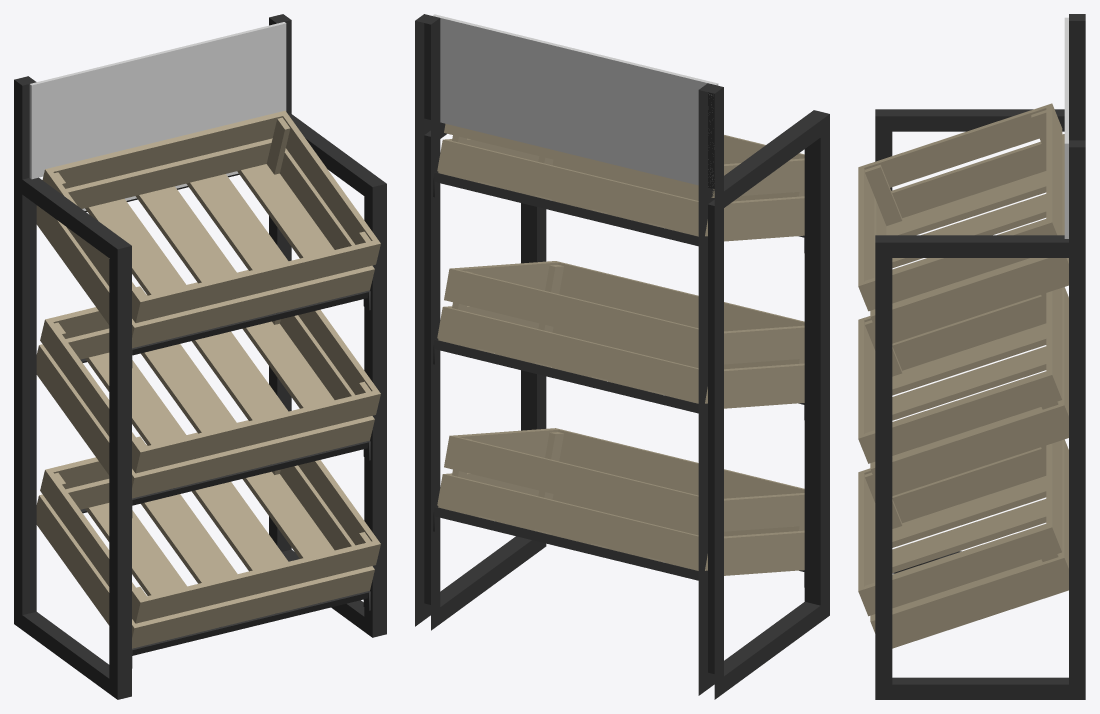
The model's file is SM_ShelfB_test.fbx.
3 renders of one model, left to right at view 1: azimuth 30°, elevation 25°; view 2: azimuth 150°, elevation 25°; view 3: azimuth 270°, elevation 25°, orthographic. The views are drawn at different scales.
Visible parts, largest first — view 1: SM_ShelfB_test; view 2: SM_ShelfB_test; view 3: SM_ShelfB_test.
Boxes of the visible parts, x1,y1,x2,y2 form: SM_ShelfB_test: (14, 14, 386, 699); SM_ShelfB_test: (415, 14, 829, 699); SM_ShelfB_test: (858, 14, 1085, 699).
Bounding box in the file's own units: 75 × 145 × 54.1.
